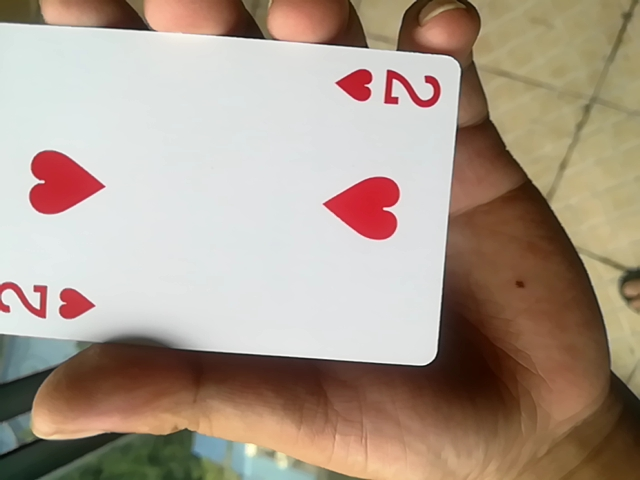hx 2: (4, 16, 463, 373)
